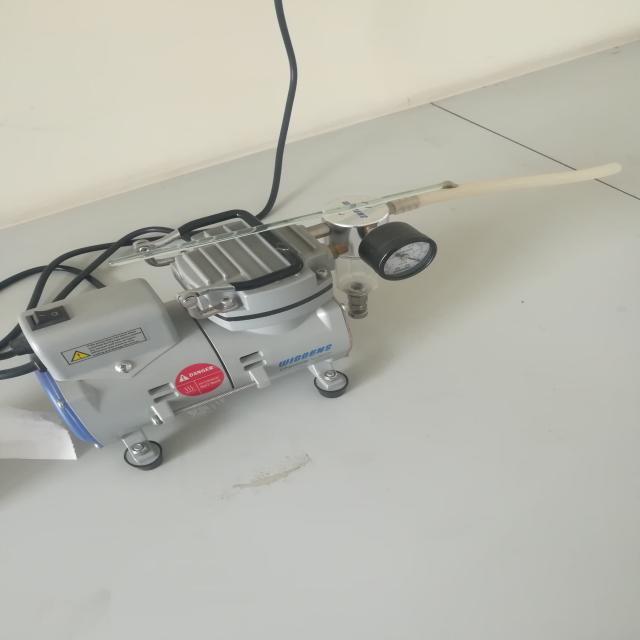Glass_Rod: (82, 166, 519, 290)
